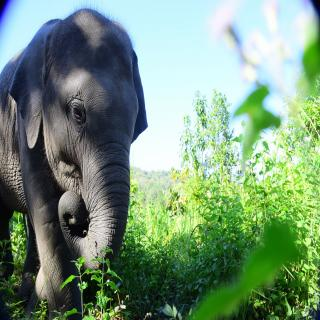Elephant: (0, 2, 156, 317)
